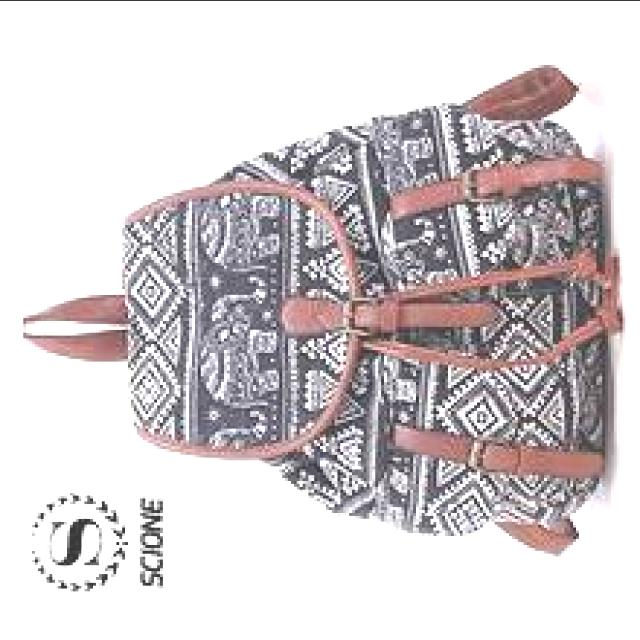backpack: (19, 65, 621, 557)
